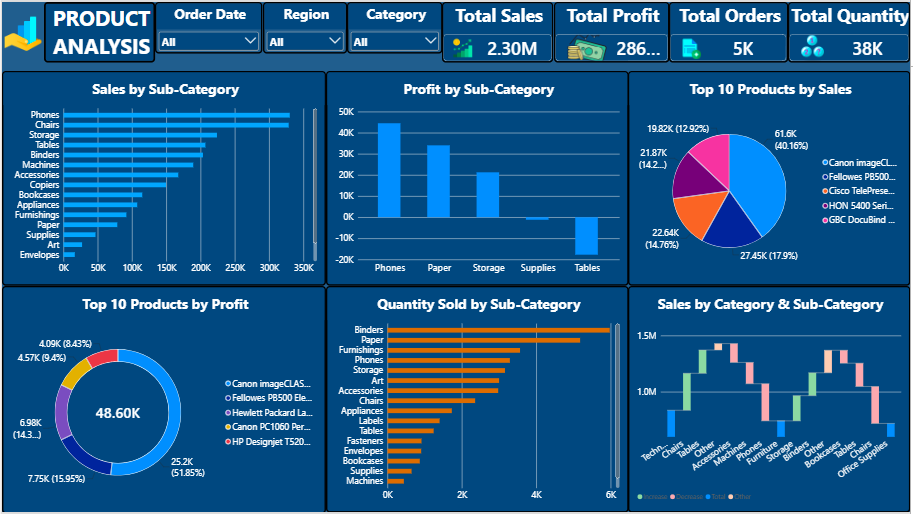

The page's visual inventory and layout, read from the dashboard file:
{"tool":"powerbi","page":{"name":"Product Analysis","canvas":[1920,1080],"ordinal":2},"visuals":[{"type":"donutChart","title":"Top 10 Products by Profit","fields":{"Category":["Superstore.Product Name"],"Y":["Superstore.Total Profit"]},"box":[0,599.7,685.4,481.3],"z":0},{"type":"clusteredBarChart","title":"Sales by Sub-Category","fields":{"Category":["Superstore.Sub-Category"],"Y":["Superstore.Total Sales"]},"box":[0,146.6,685.4,454.2],"z":1000},{"type":"columnChart","title":"Profit by Sub-Category","fields":{"Category":["Superstore.Sub-Category"],"Y":["Superstore.Total Profit"]},"box":[685.4,146.1,640,453.5],"z":2000},{"type":"pieChart","title":"Top 10 Products by Sales","fields":{"Category":["Superstore.Product Name"],"Y":["Superstore.Total Sales"]},"box":[1323.4,146.6,596.6,454.2],"z":3000},{"type":"waterfallChart","title":"Sales by Category & Sub-Category","fields":{"Breakdown":["Superstore.Sub-Category"],"Category":["Superstore.Category"],"Y":["Superstore.Total Sales"]},"box":[1323.4,600.8,596.6,479],"z":4000},{"type":"clusteredBarChart","title":"Quantity Sold by Sub-Category","fields":{"Category":["Superstore.Sub-Category"],"Y":["Sum(Superstore.Quantity)"]},"box":[685.4,600.8,640,479],"z":5000},{"type":"textbox","title":"PRODUCT ANALYSIS","box":[88.8,0,235.4,128],"z":6000},{"type":"cardVisual","title":"Total Sales","fields":{"Data":["Superstore.Total Sales"]},"box":[931.1,0,235.4,128],"z":7000},{"type":"cardVisual","title":"Total Profit","fields":{"Data":["Superstore.Total Profit"]},"box":[1166.5,0,243.6,128],"z":8000},{"type":"cardVisual","title":"Total Orders","fields":{"Data":["Superstore.Total Orders"]},"box":[1410.1,0,251.9,128],"z":9000},{"type":"slicer","title":"Category","fields":{"Values":["Superstore.Category"]},"box":[728.8,0,202.3,109.4],"z":10000},{"type":"cardVisual","title":"Total Quantity","fields":{"Data":["Superstore.Total Quantity"]},"box":[1661.9,0,258.1,128],"z":11000},{"type":"slicer","title":"Order Date","fields":{"Values":["Superstore.Order Date"]},"box":[324.1,0,227.1,109.4],"z":12000},{"type":"slicer","title":"Region","fields":{"Values":["Superstore.Region"]},"box":[551.2,0,177.5,109.4],"z":13000},{"type":"image","box":[0,8.3,88.8,119.7],"z":14000}]}

Visuals, with their boxes in screenshot pixels (x1, y1, x2, y2), scaled from the page's 1920x1080 canvas onto the 913x514 screenshot:
"Top 10 Products by Profit" donutChart: (x1=0, y1=285, x2=326, y2=513)
"Sales by Sub-Category" clusteredBarChart: (x1=0, y1=70, x2=326, y2=286)
"Profit by Sub-Category" columnChart: (x1=326, y1=70, x2=630, y2=285)
"Top 10 Products by Sales" pieChart: (x1=629, y1=70, x2=912, y2=286)
"Sales by Category & Sub-Category" waterfallChart: (x1=629, y1=286, x2=912, y2=513)
"Quantity Sold by Sub-Category" clusteredBarChart: (x1=326, y1=286, x2=630, y2=513)
"PRODUCT ANALYSIS" textbox: (x1=42, y1=0, x2=154, y2=61)
"Total Sales" cardVisual: (x1=443, y1=0, x2=555, y2=61)
"Total Profit" cardVisual: (x1=555, y1=0, x2=671, y2=61)
"Total Orders" cardVisual: (x1=671, y1=0, x2=790, y2=61)
"Category" slicer: (x1=347, y1=0, x2=443, y2=52)
"Total Quantity" cardVisual: (x1=790, y1=0, x2=912, y2=61)
"Order Date" slicer: (x1=154, y1=0, x2=262, y2=52)
"Region" slicer: (x1=262, y1=0, x2=347, y2=52)
image: (x1=0, y1=4, x2=42, y2=61)
